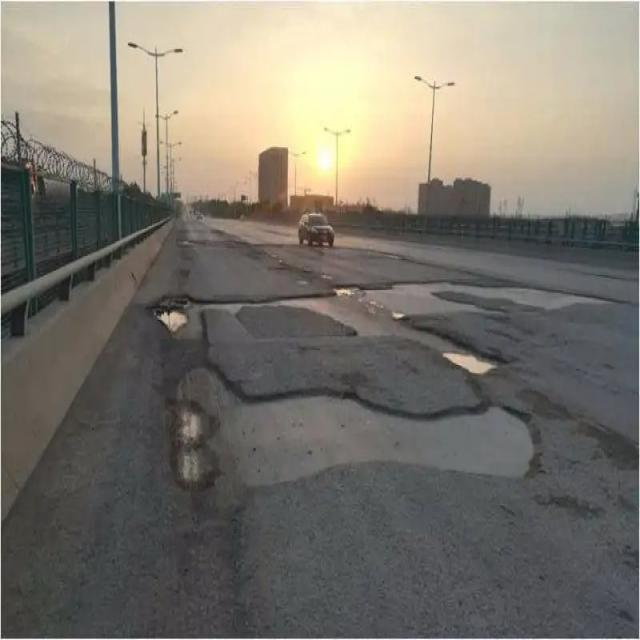Pothole: (164, 359, 550, 527), (319, 278, 599, 325), (145, 293, 193, 336)
